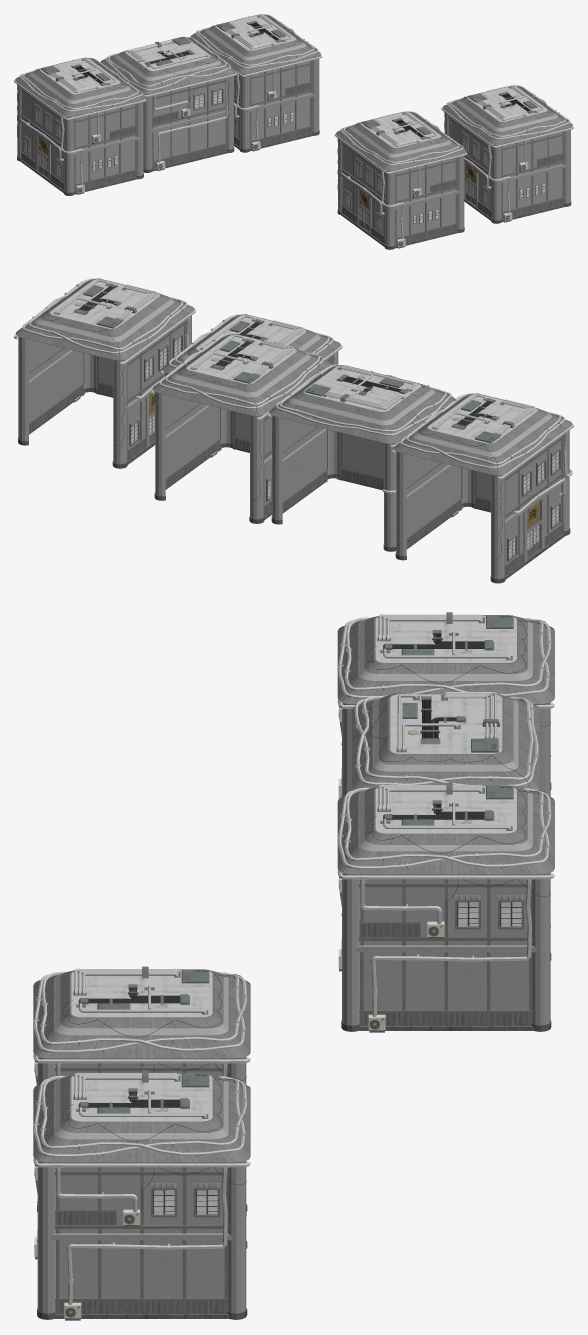
File: konohavill_CommonBuilding_B_2.fbx
3 renders of one model, top to bottom at view 1: azimuth 30°, elevation 25°; view 2: azimuth 150°, elevation 25°; view 3: azimuth 270°, elevation 25°, orthographic. The views are drawn at different scales.
Visible parts, largest first — view 1: MERGED_SM_ENV_KNVLLG_CommonBuilding_B_2.mo; view 2: MERGED_SM_ENV_KNVLLG_CommonBuilding_B_2.mo; view 3: MERGED_SM_ENV_KNVLLG_CommonBuilding_B_2.mo.
Boxes of the visible parts, bbox=[...] form: MERGED_SM_ENV_KNVLLG_CommonBuilding_B_2.mo: bbox=[14, 14, 573, 249]; MERGED_SM_ENV_KNVLLG_CommonBuilding_B_2.mo: bbox=[14, 278, 573, 583]; MERGED_SM_ENV_KNVLLG_CommonBuilding_B_2.mo: bbox=[33, 612, 554, 1320].
Size of the model in its own units: 6900 by 2328 by 3603.
